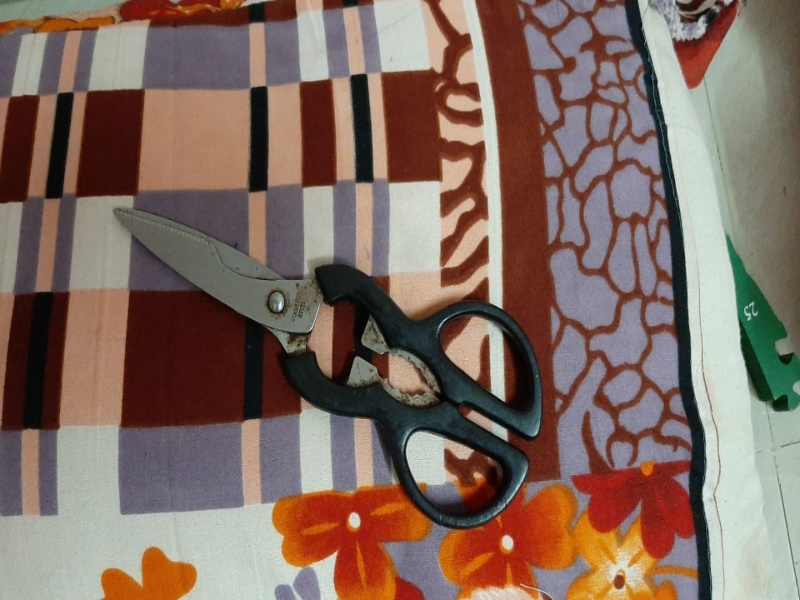scissor: (107, 185, 543, 529)
